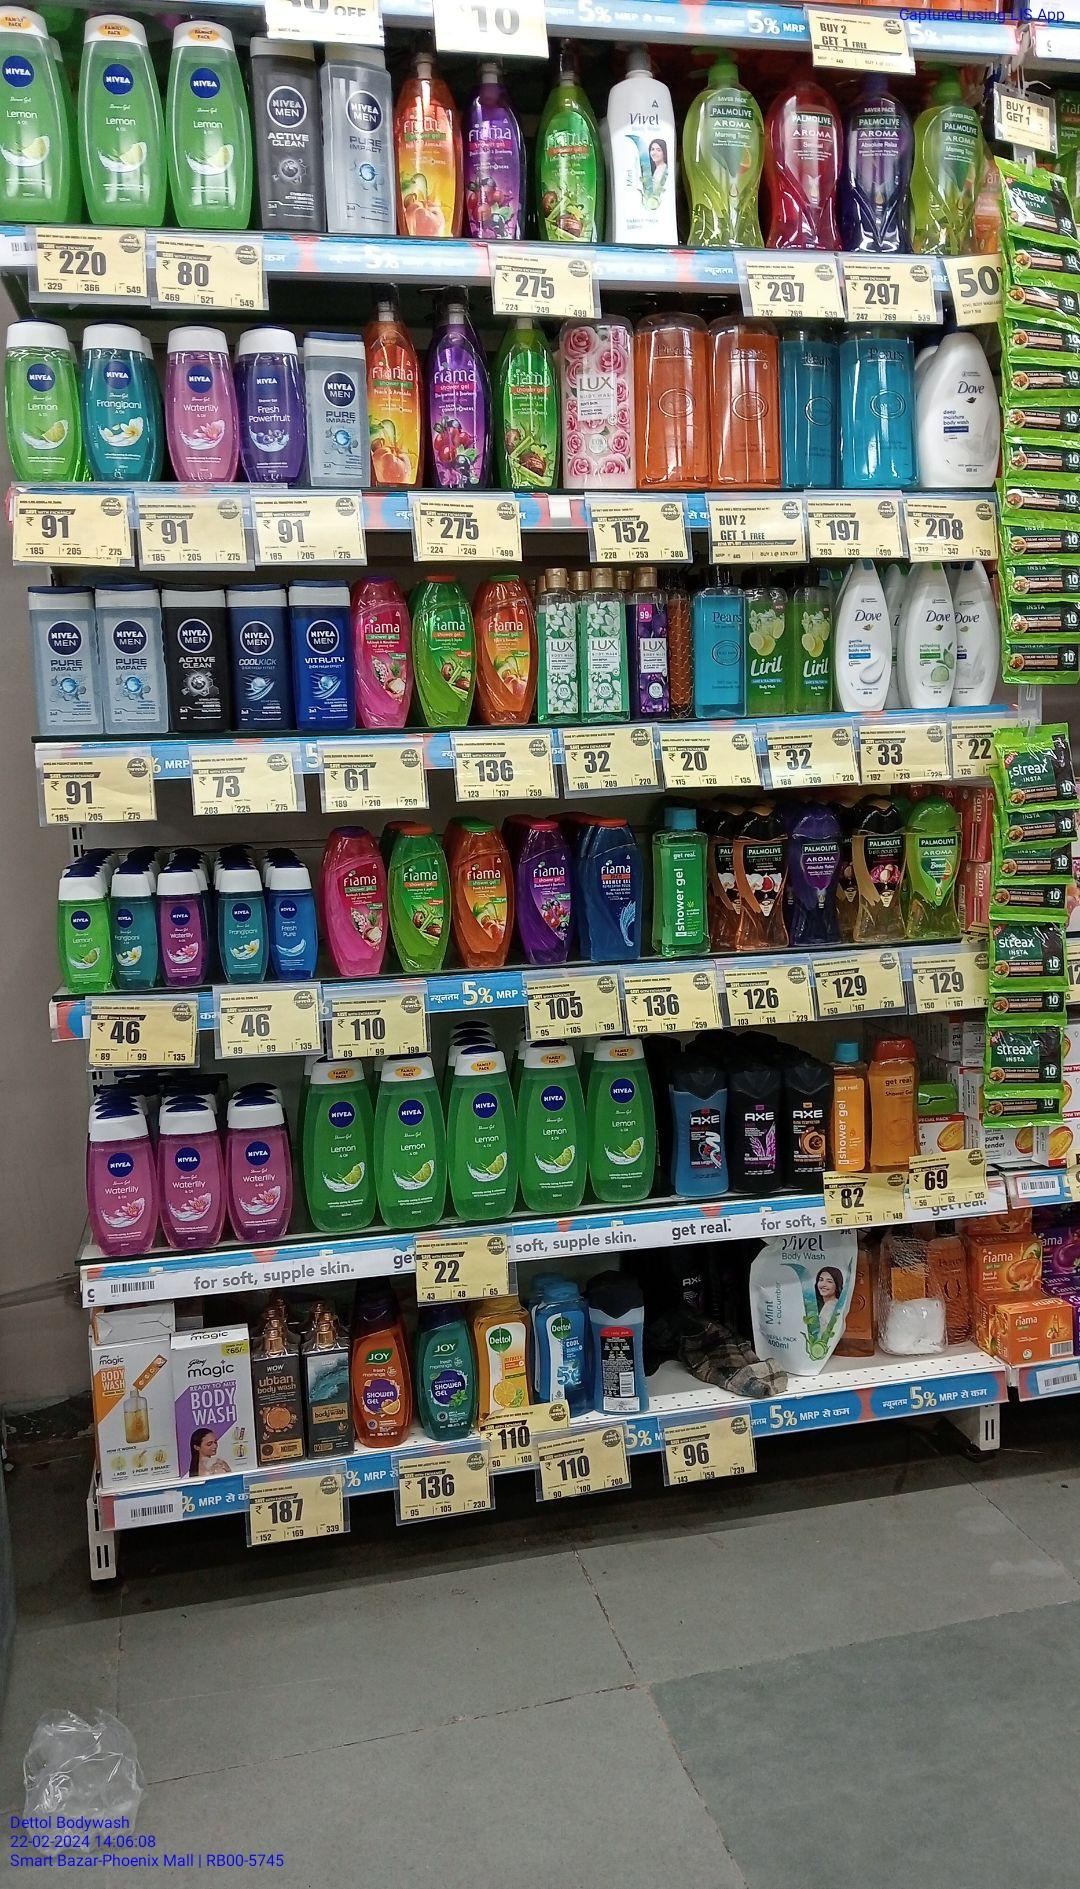Dettol_Bodywash_Cool: (535, 1286, 587, 1396)
Dettol_Bodywash_Refresh: (474, 1291, 534, 1409)
Dove_Deep_Moisture_Body_Wash_250ML: (953, 558, 1001, 707)
Dove_Gentle_Exfoliating_Body_Wash_250ML: (837, 560, 890, 711)
Dove_Refreshing_Body_Wash_250ML: (907, 560, 953, 710)
Fiama_Shower_Gel_Lemongrass_and_Jojoba_250ML: (414, 575, 474, 725), (392, 826, 447, 973)
Fiama_Shower_Gel_Patchouli_and_Macadamia_250ML: (352, 577, 410, 730), (330, 830, 387, 976)
Fiama_Shower_Gel_Peach_and_Avocado_250ML: (476, 571, 531, 728), (457, 828, 509, 970)
Get_Real_Shower_Gel_Moisturising_Glycerin_300ML: (870, 1041, 922, 1169)
Joy_Shower_Gel_Mandarin_and_Lemongrass_250ML: (354, 1301, 411, 1447)
Joy_Shower_Gel_Mint_and_Eucalyptus_250ML: (419, 1297, 474, 1441)
Lux_Black_Orchid_Scent_and_Juniper_Oil_Body_Wash_245ML: (631, 566, 674, 716)
Lux_Body_Wash_Skin_Detox_Freesia_Scent_and_Alove_Vera_245ML: (584, 567, 630, 724), (546, 570, 582, 727)
Nivea_Shower_Gel_Frangipani_and_Oil_250ML: (83, 322, 160, 477)
Nivea_Shower_Gel_Fresh_Powerfruit_250ML: (239, 328, 305, 485)
Nivea_Shower_Gel_Lemon_and_Oil_250ML: (167, 21, 254, 227), (79, 14, 162, 224), (0, 0, 71, 226), (374, 1053, 445, 1231), (5, 322, 78, 483), (450, 1051, 517, 1222), (519, 1046, 585, 1212), (309, 1059, 367, 1231), (588, 1038, 650, 1199)
Nivea_Shower_Gel_Waterlily_and_Oil_250ML: (167, 326, 239, 481), (90, 1114, 156, 1256), (164, 1105, 223, 1248), (230, 1105, 291, 1243)
Palmolive_Aroma_Morning_Tonic_Shower_Gel_250ML: (910, 804, 963, 941)
Palmolive_Aroma_Relax_250ML: (796, 811, 842, 946)
Palmolive_Luminous_Oils_Invigorating_Macadamia_Oil_With_Peony_250ML: (850, 806, 910, 944)
Palmolive_Luminous_Oils_With_White_Orchid_Shower_Gel_250ML: (735, 811, 793, 948)
